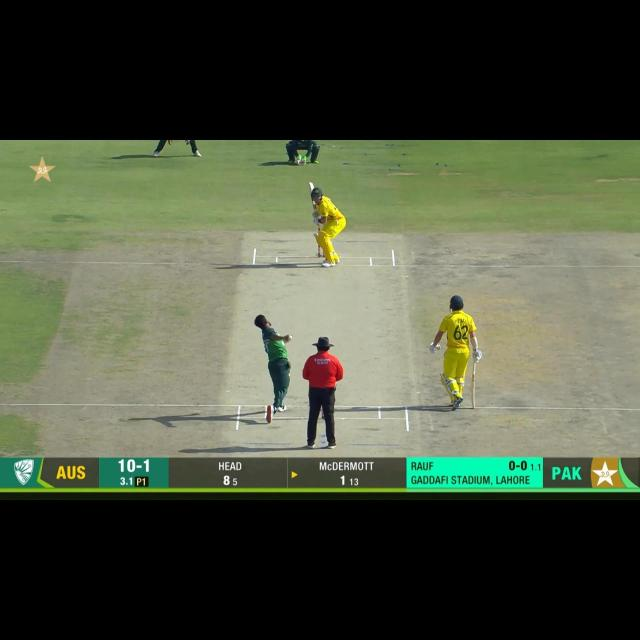bat: (307, 182, 318, 211), (470, 374, 479, 408)
toe: (470, 402, 479, 408), (307, 182, 314, 188)
